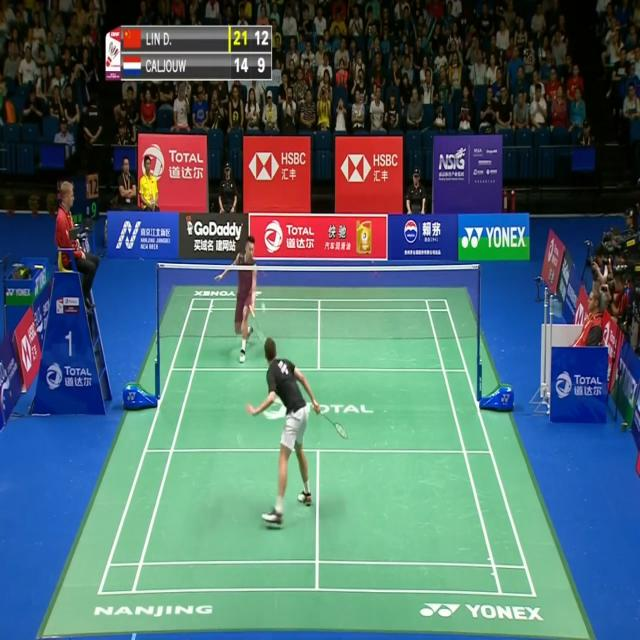Player1: (245, 329, 359, 535)
Player2: (211, 230, 261, 367)
